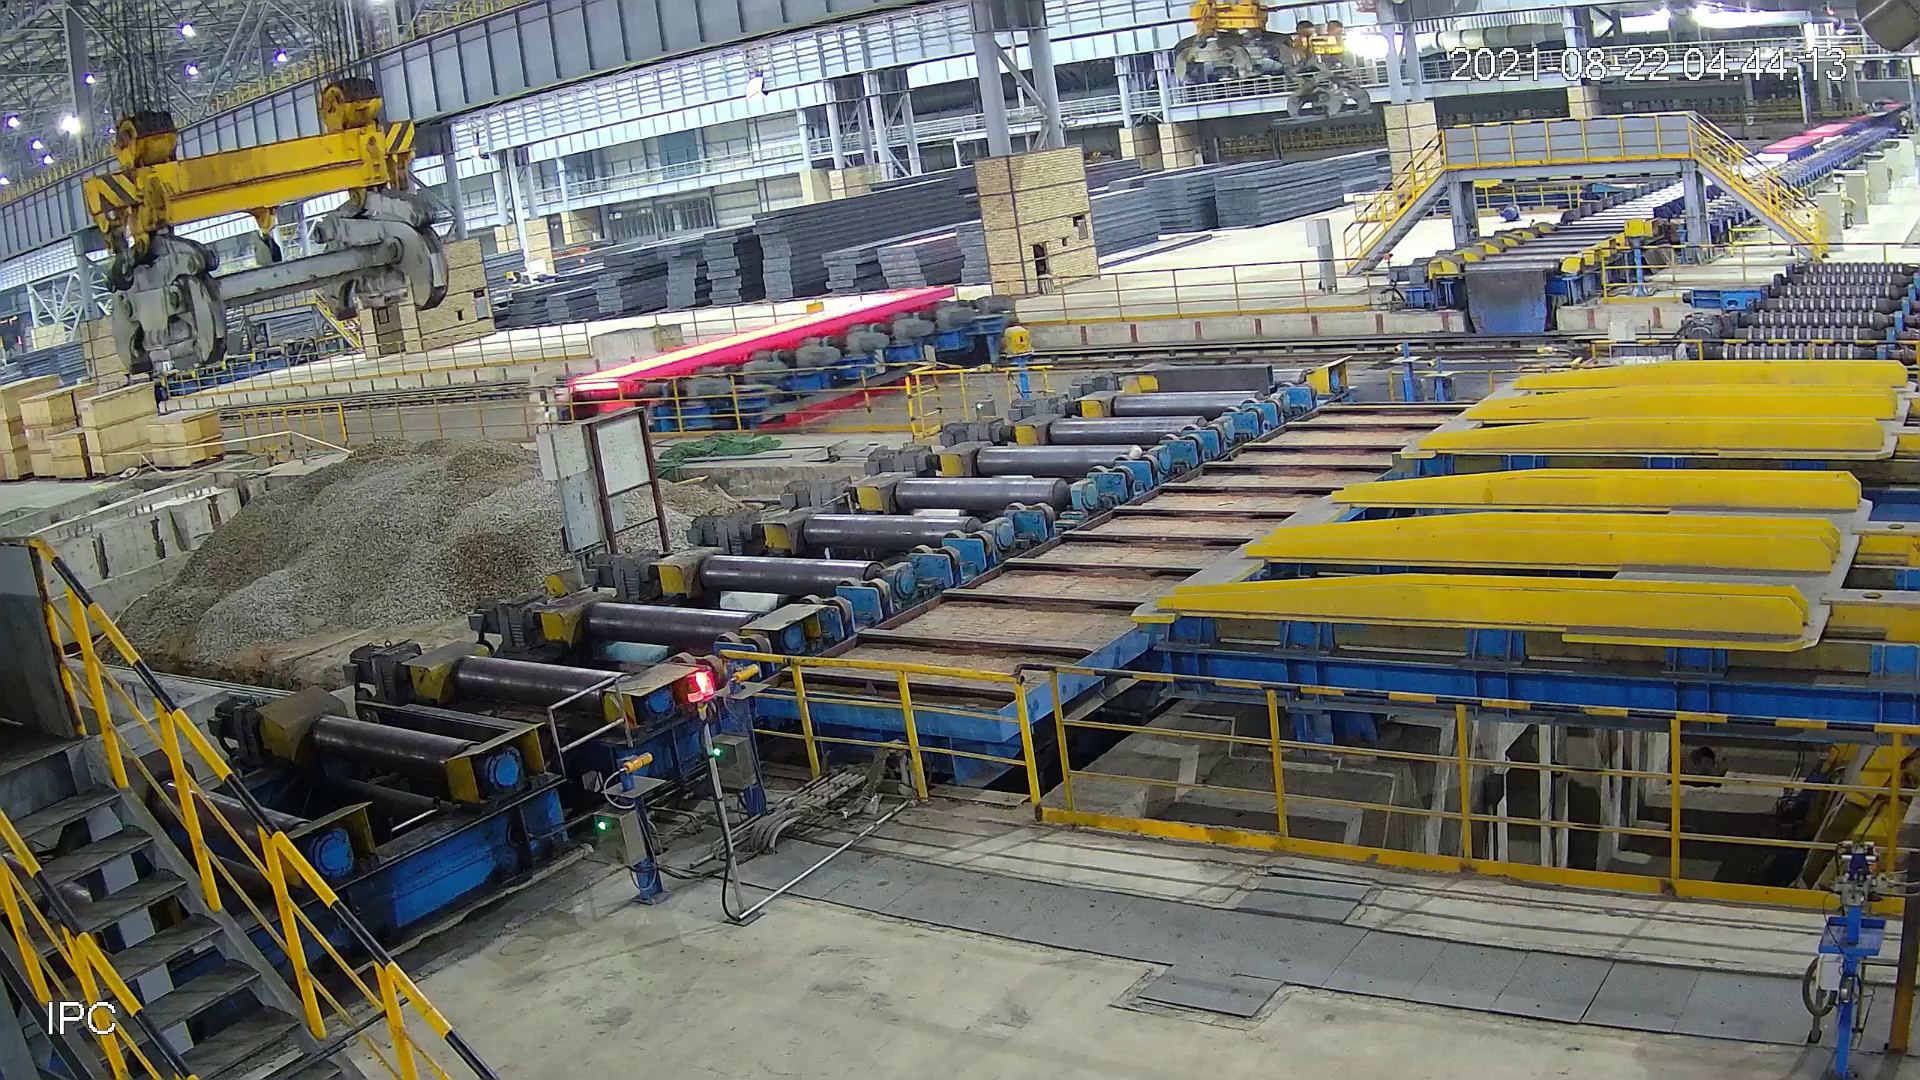crane: (82, 65, 463, 389)
slab: (556, 284, 956, 400)
